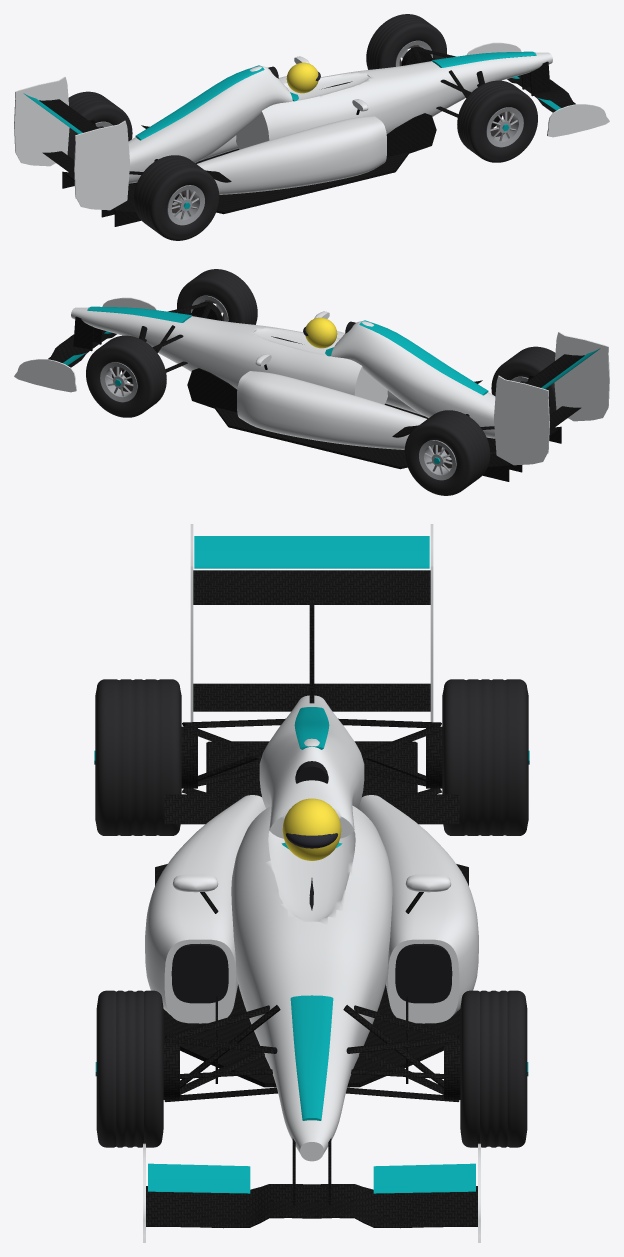
3 renders of one model, top to bottom at view 1: azimuth 30°, elevation 25°; view 2: azimuth 150°, elevation 25°; view 3: azimuth 270°, elevation 25°, orthographic. The views are drawn at different scales.
Visible parts, largest first — view 1: Chassis, RearWing, Sidepod_R, EngineCover, Tyre_RR, Tyre_FR, FrontWing, Tyre_FL, Floor, Tyre_RL, Bargeboard_R, Cover_Stripe (+4 smaller); view 2: Chassis, RearWing, Sidepod_L, EngineCover, Tyre_RL, Tyre_FL, FrontWing, Tyre_FR, Floor, Tyre_RR, Bargeboard_L, Cover_Stripe (+4 smaller); view 3: Chassis, FrontWing, RearWing, Tyre_RL, Tyre_RR, Sidepod_L, Sidepod_R, Tyre_FL, Tyre_FR, Suspension_Front, EngineCover, RearWing_Flap (+14 smaller).
Part boxes in pixels (box(x1,y1,x2,y2)): Chassis: box(236, 52, 552, 149); RearWing: box(14, 77, 129, 210); Sidepod_R: box(197, 116, 386, 194); EngineCover: box(128, 66, 292, 183); Tyre_RR: box(133, 155, 219, 240); Tyre_FR: box(457, 80, 537, 162); FrontWing: box(466, 42, 609, 137); Tyre_FL: box(366, 14, 446, 69); Floor: box(174, 148, 408, 214); Tyre_RL: box(67, 91, 132, 159); Bargeboard_R: box(386, 113, 436, 157); Cover_Stripe: box(135, 65, 264, 140); Chassis: box(71, 307, 387, 404); RearWing: box(494, 332, 609, 465); Sidepod_L: box(237, 371, 426, 449); EngineCover: box(331, 321, 495, 438); Tyre_RL: box(404, 410, 490, 495); Tyre_FL: box(86, 335, 166, 417); FrontWing: box(14, 297, 157, 392); Tyre_FR: box(177, 269, 257, 324); Floor: box(215, 403, 449, 469); Tyre_RR: box(491, 346, 556, 414); Bargeboard_L: box(187, 368, 237, 412); Cover_Stripe: box(359, 320, 488, 395); Chassis: box(231, 805, 392, 1161); FrontWing: box(143, 1138, 480, 1242); RearWing: box(190, 524, 433, 722); Tyre_RL: box(442, 679, 529, 835); Tyre_RR: box(94, 679, 181, 835); Sidepod_L: box(358, 795, 478, 1023); Sidepod_R: box(145, 795, 265, 1023); Tyre_FL: box(460, 990, 528, 1147); Tyre_FR: box(95, 990, 163, 1147); Suspension_Front: box(164, 1005, 459, 1101); EngineCover: box(259, 695, 364, 838); RearWing_Flap: box(194, 536, 429, 568).
Size of the model in its own units: 5.08 by 1.04 by 1.83.
11 materials, 1 textured.
